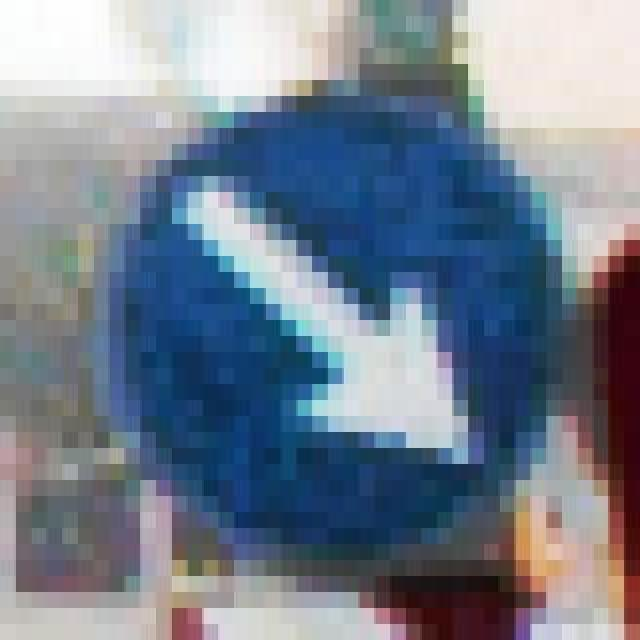keep right: (110, 80, 546, 544)
